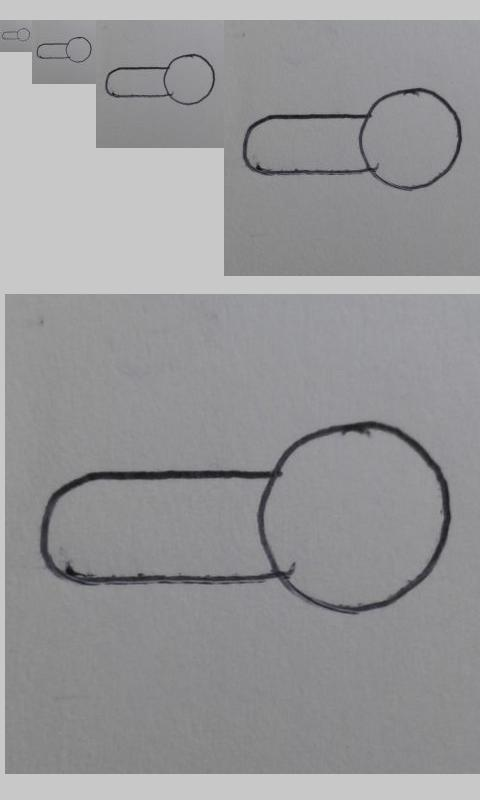switch: (39, 420, 452, 617), (243, 88, 463, 191), (105, 54, 216, 106), (36, 36, 92, 63), (2, 28, 31, 42)
